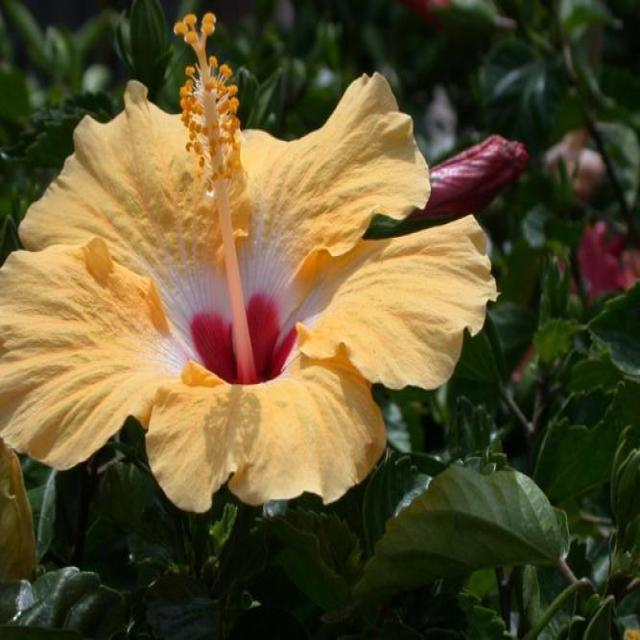hibiscus: (3, 9, 523, 640)
